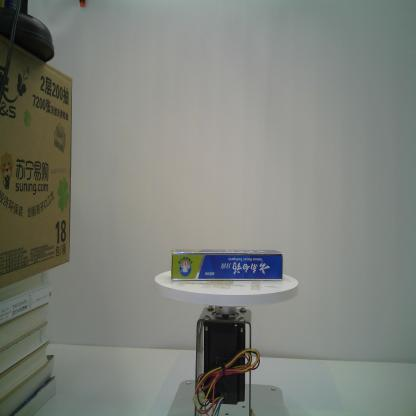Personal Hygiene: (170, 248, 283, 282)
